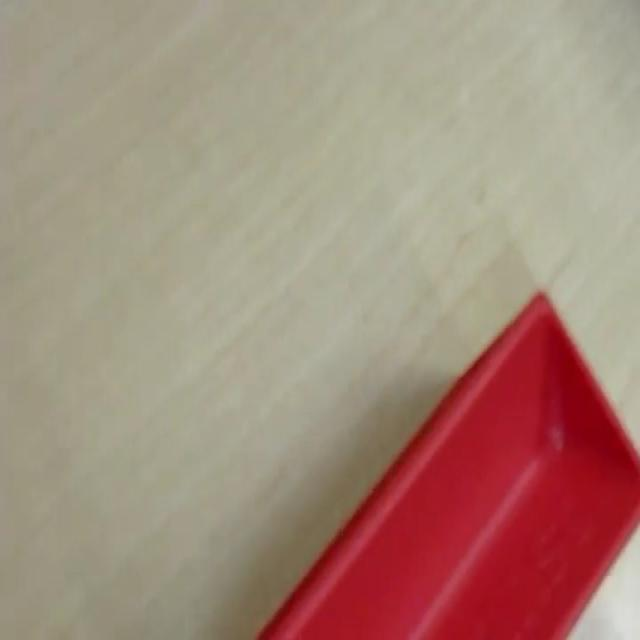red_block: (255, 287, 639, 637)
